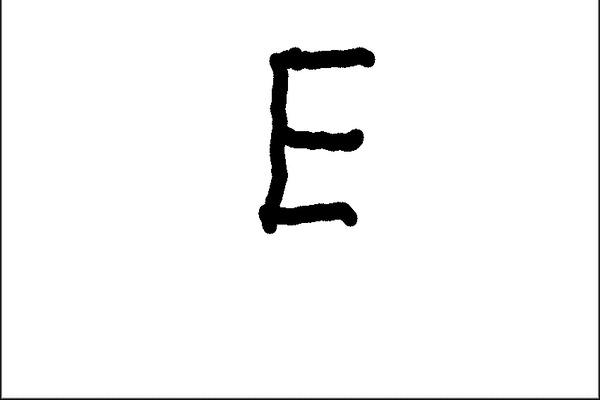E: (253, 42, 385, 238)
